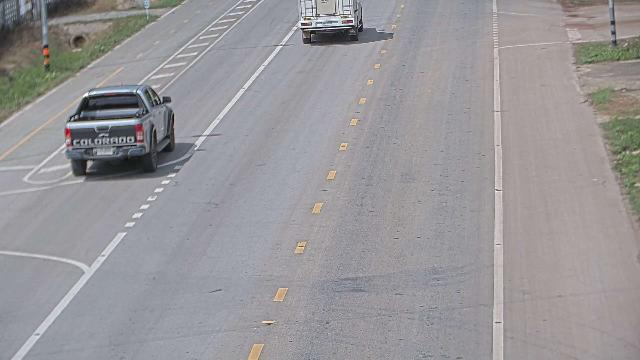pickup-truck: (63, 83, 175, 176)
